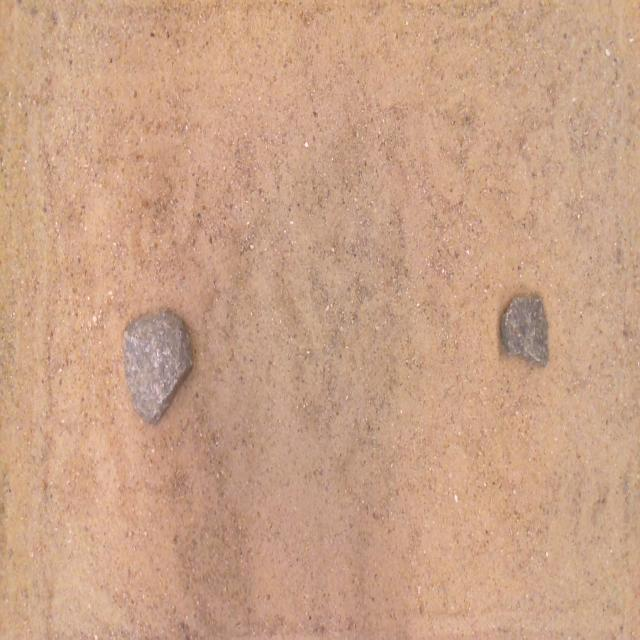rock: (124, 311, 192, 423), (500, 296, 548, 366)
